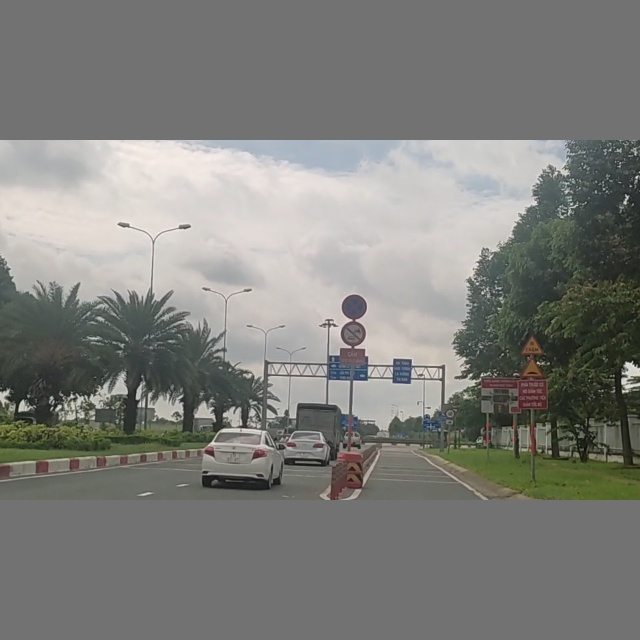P.111: (339, 321, 367, 346)
P.130: (341, 291, 367, 320)
W.221b: (521, 358, 544, 377)
W.245a: (520, 333, 544, 355)
